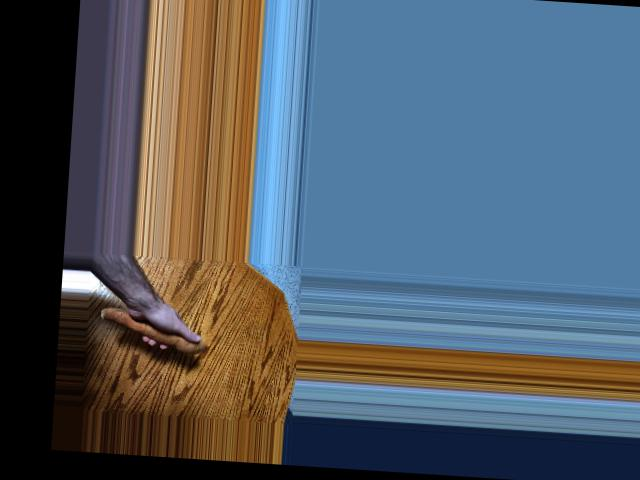sweet_potato: (97, 302, 207, 358)
